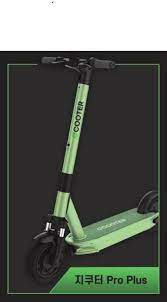kick_handler: (42, 55, 115, 83)
kick_neck: (50, 86, 89, 214)
kick_wheel: (28, 235, 65, 284)
